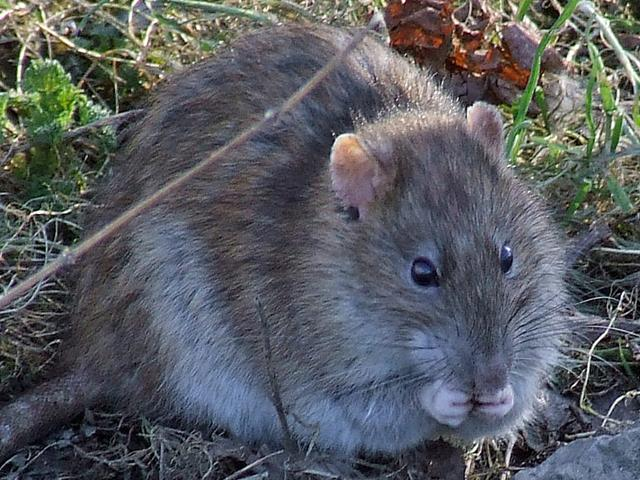mouse: (35, 24, 619, 451)
